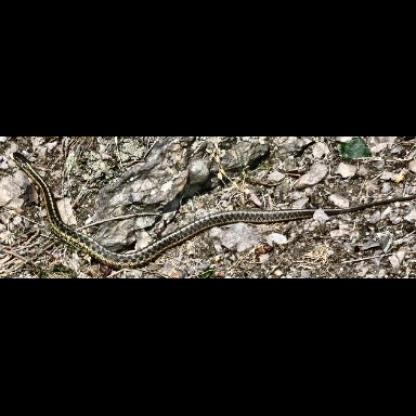Snake: (10, 149, 138, 273), (140, 204, 333, 270)
